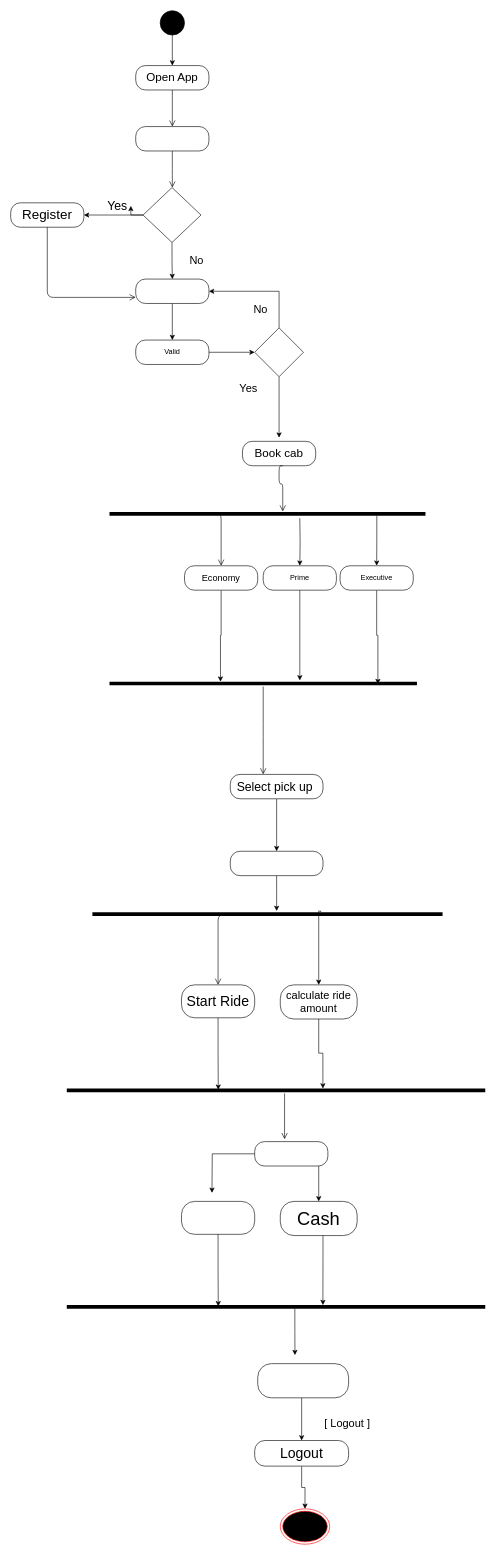
This 498x1555 diagram has some shape labels left out. The centre of each missing label's shape, as x and y in pixels:
"From wallet" goes at point 218,1217.
"Give feedback" goes at point 303,1380.
"Login" goes at point 172,290.
"New User" goes at point 172,138.
"select destination" goes at point 276,863.
"total Payment" goes at point 291,1153.
